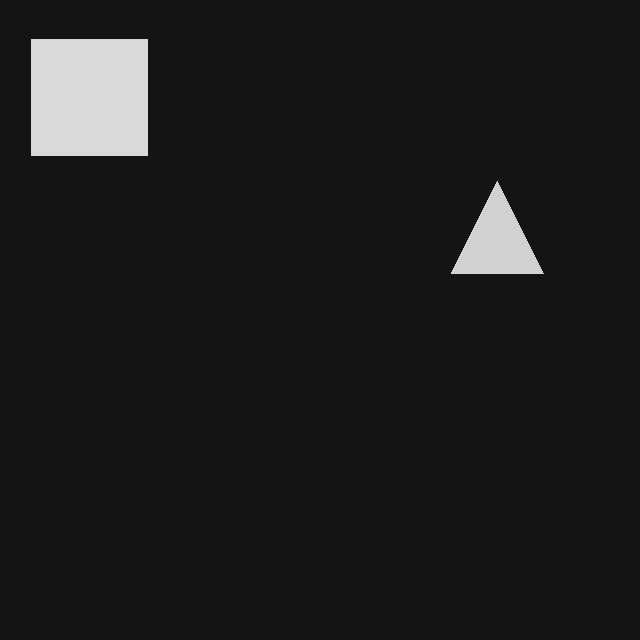square: (31, 39, 147, 155)
triangle: (451, 181, 543, 273)
